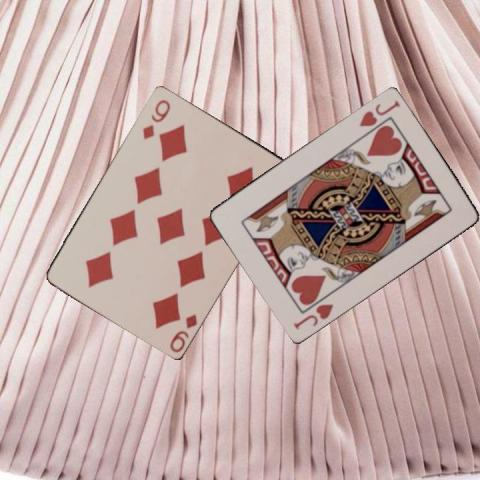9d: (139, 96, 172, 141), (166, 310, 198, 354)
Jh: (356, 96, 402, 128), (290, 300, 335, 331)
